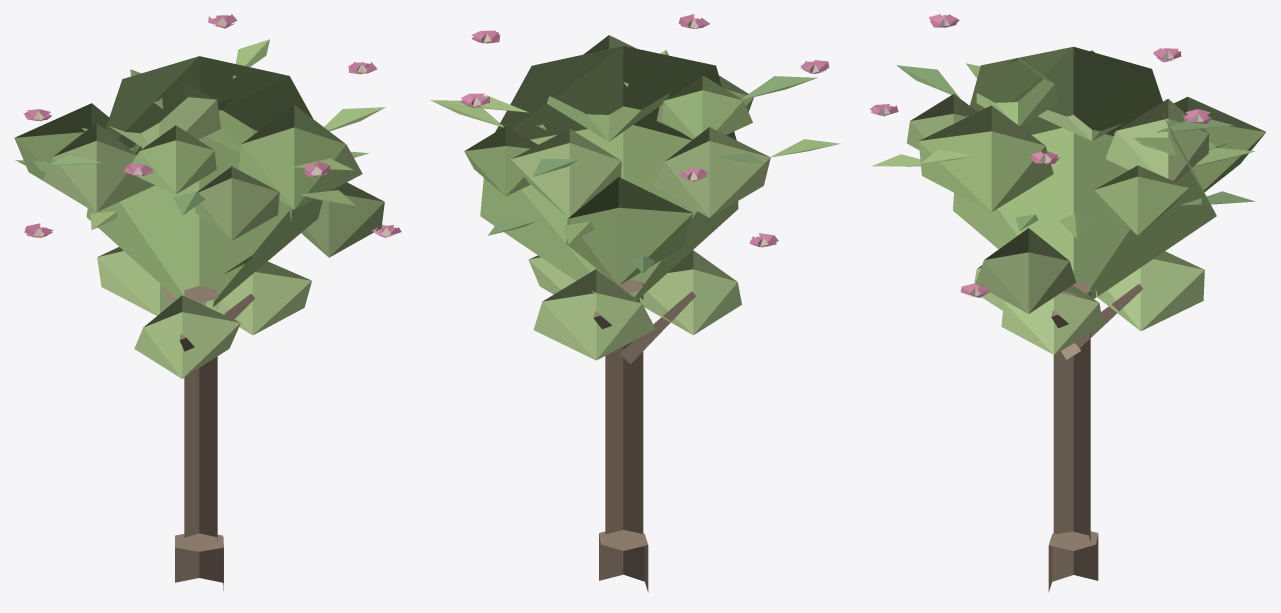
File: shu.yinxing@flowering__bloom.glb
3 renders of one model, left to right at view 1: azimuth 30°, elevation 25°; view 2: azimuth 150°, elevation 25°; view 3: azimuth 270°, elevation 25°, orthographic.
Parts seen in each view (by area): view 1: shu.yinxing@flowering__bloom; view 2: shu.yinxing@flowering__bloom; view 3: shu.yinxing@flowering__bloom.
Boxes of the visible parts, x1=… form: shu.yinxing@flowering__bloom: x1=14, y1=14, x2=401, y2=590; shu.yinxing@flowering__bloom: x1=430, y1=14, x2=840, y2=592; shu.yinxing@flowering__bloom: x1=869, y1=14, x2=1265, y2=592.
Size of the model in its own units: 9.98 by 14.35 by 9.6.
